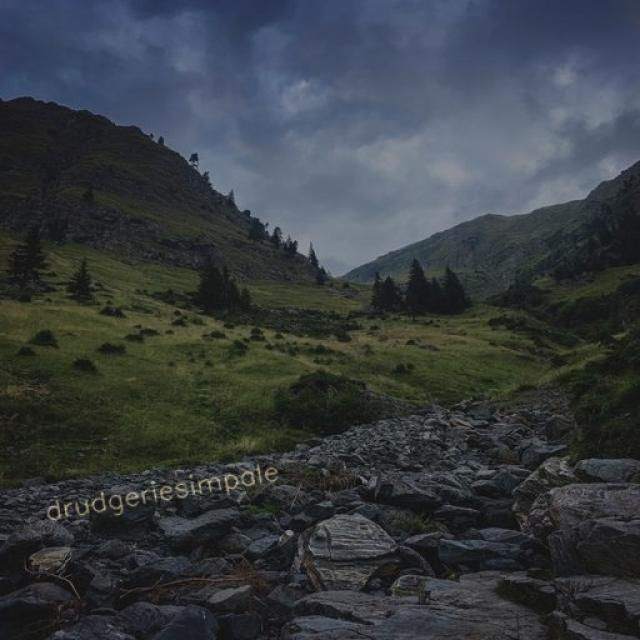watermark: (39, 457, 280, 525)
